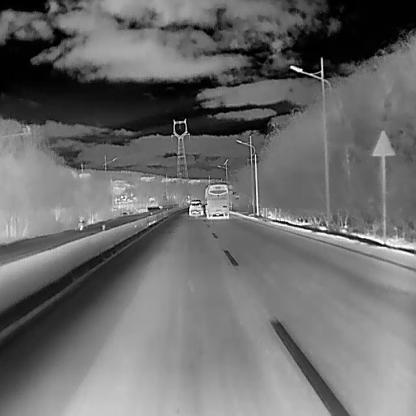car: (204, 181, 230, 221), (188, 198, 204, 219)
